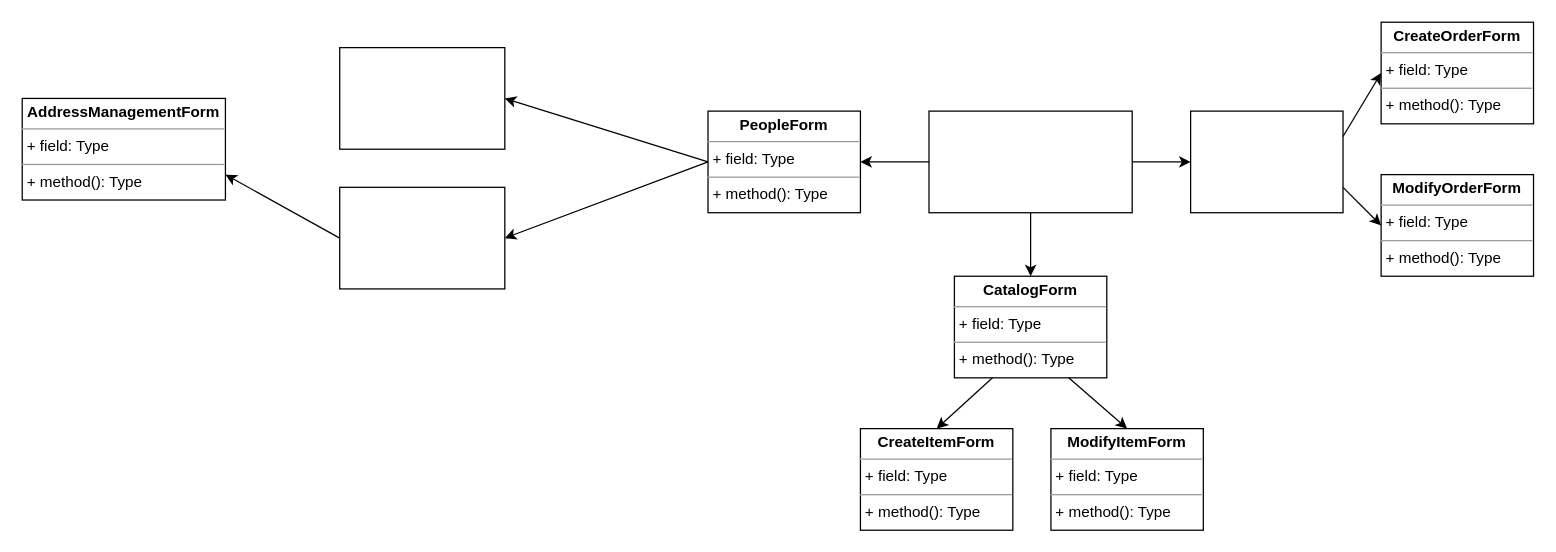
The diagram is 1556 pixels wide and 552 high, and some of its shapes have lost their labels. The centre of each missing label's shape, as x and y in pixels:
"CreatePeopleForm + field: Type + method(): Type" goes at (421,97).
"MainForm + field: Type + method(): Type" goes at (1030,161).
"ModifyPeopleForm + field: Type + method(): Type" goes at (421,237).
"OrderForm + field: Type + method(): Type" goes at (1266,161).
